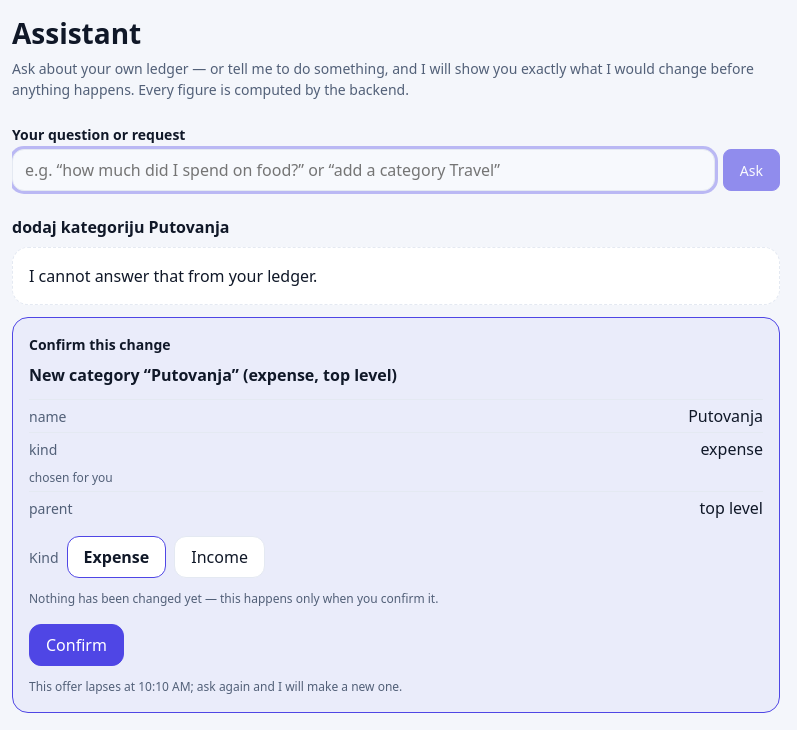
Test: the assistant write path (B-2b) › replaces the proposal and its key when the kind changes
The width and height of the screenshot is (797, 730).
Click the button with class "act__toggle" showing "Income": (220, 557) [174,536,265,578]
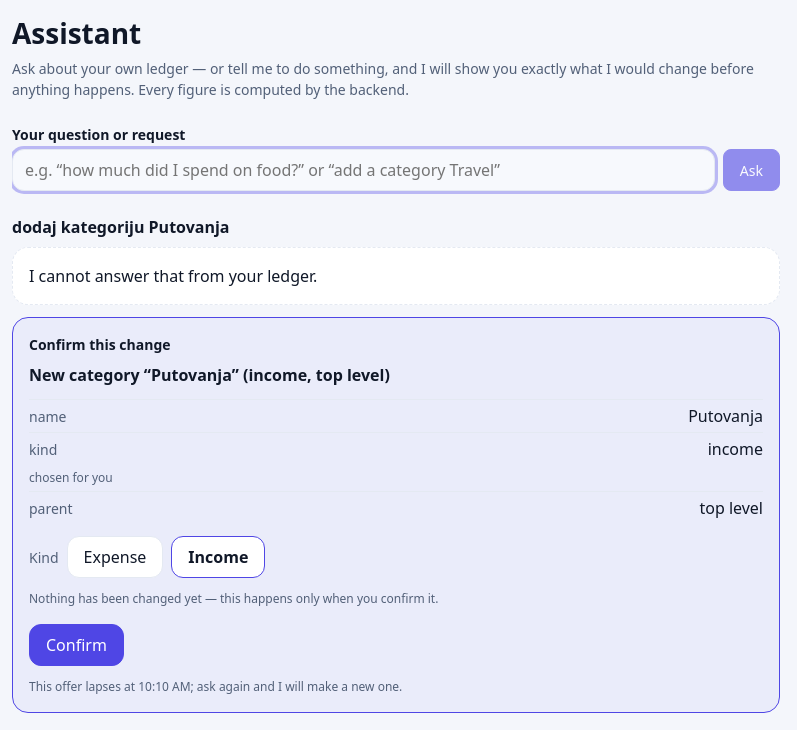
Expected: the text "dodaj kategoriju Putovanja" is shown, [12,216,230,238]
Expected: the text "New category “Putovanja” (income, top level)" is shown, [29,364,390,386]
